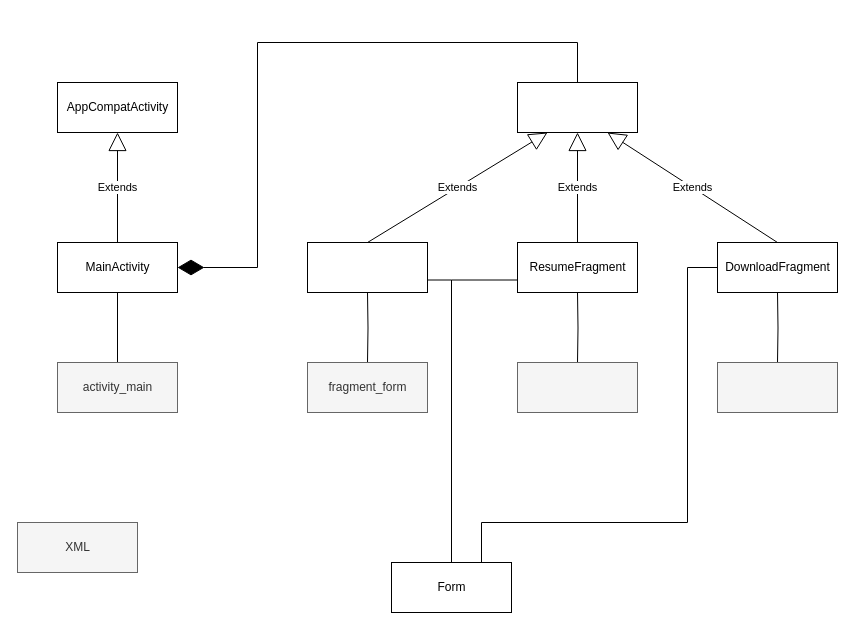
Some shapes in this 855 by 630 pixel diagram are drawn without their labels. The shapes that lost their labels are listed below. From the top down, each one's box as (x1, y1, x2, y2) in pixels, then its label:
(516, 82, 638, 132): Fragment
(306, 242, 428, 292): FormFragment
(516, 362, 638, 412): fragment_resume
(716, 362, 838, 412): fragment_download
